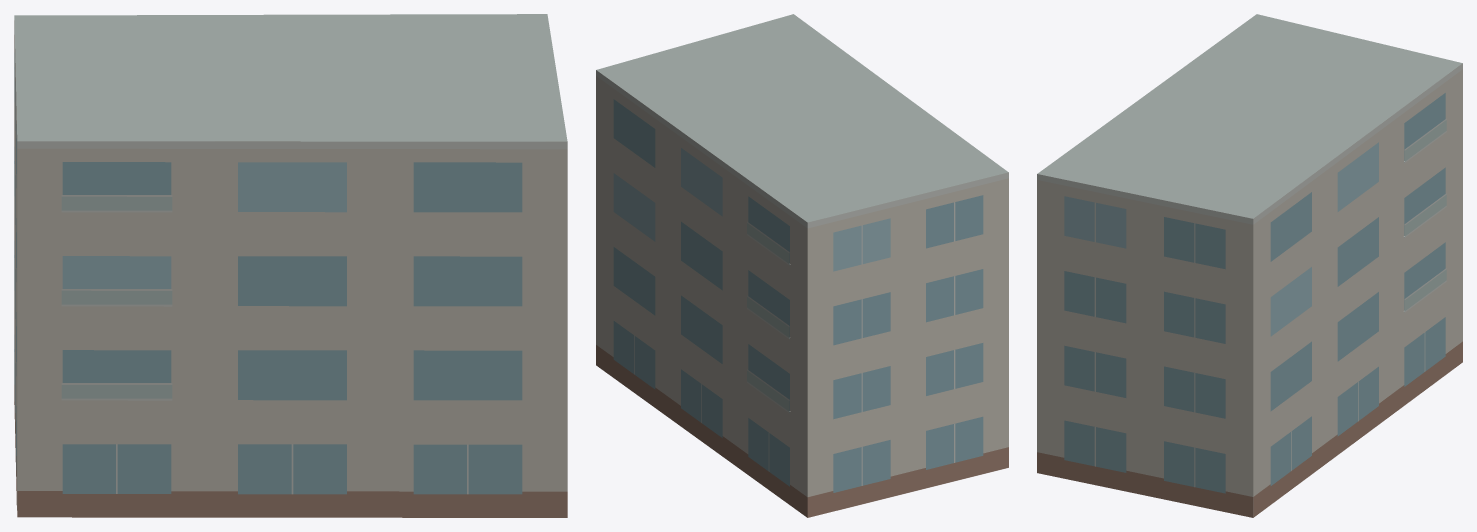
The model's file is survey-upis-32657322.glb.
3 views of the same model, side by side, from view 1: azimuth 30°, elevation 25°; view 2: azimuth 150°, elevation 25°; view 3: azimuth 270°, elevation 25° (orthographic). The views are drawn at different scales.
Parts seen in each view (by area): view 1: survey-upis-32657322.tmp; view 2: survey-upis-32657322.tmp; view 3: survey-upis-32657322.tmp.
Boxes of the visible parts, x1,y1,x2,y2 form: survey-upis-32657322.tmp: (14,14,567,517); survey-upis-32657322.tmp: (596,14,1008,517); survey-upis-32657322.tmp: (1037,14,1462,517).
Size of the model in its own units: 17.93 by 12.2 by 15.75.
